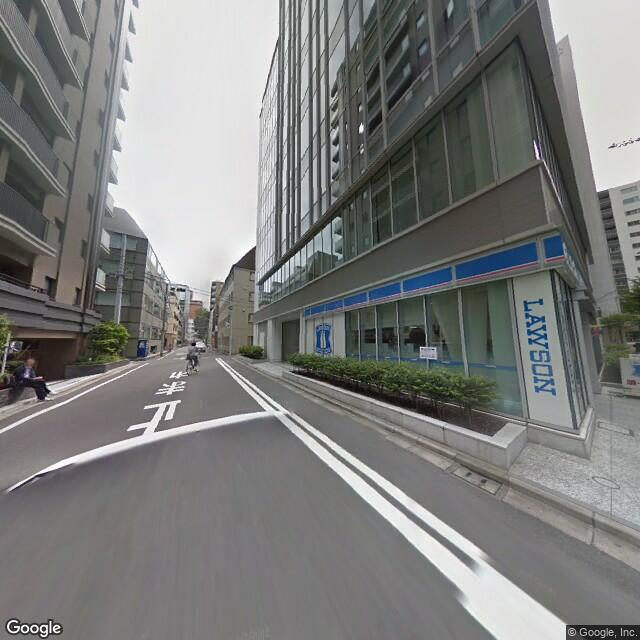lawson: (297, 232, 575, 320), (520, 287, 559, 402), (309, 318, 333, 354)
